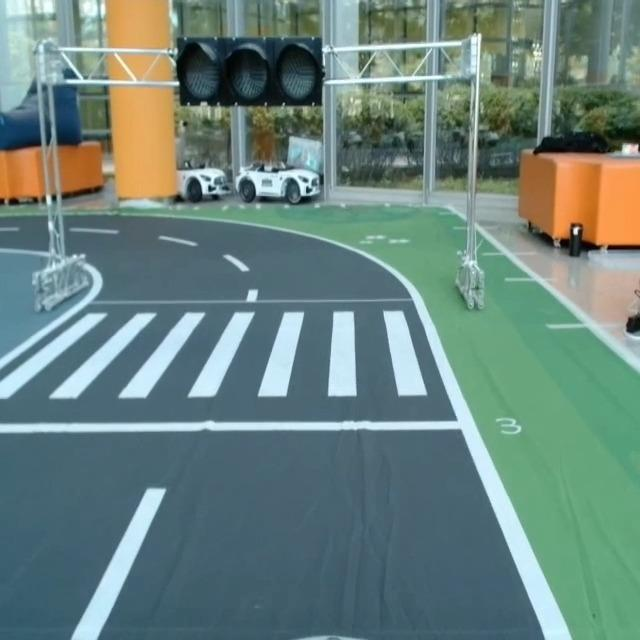traffic-light: (174, 38, 325, 108)
